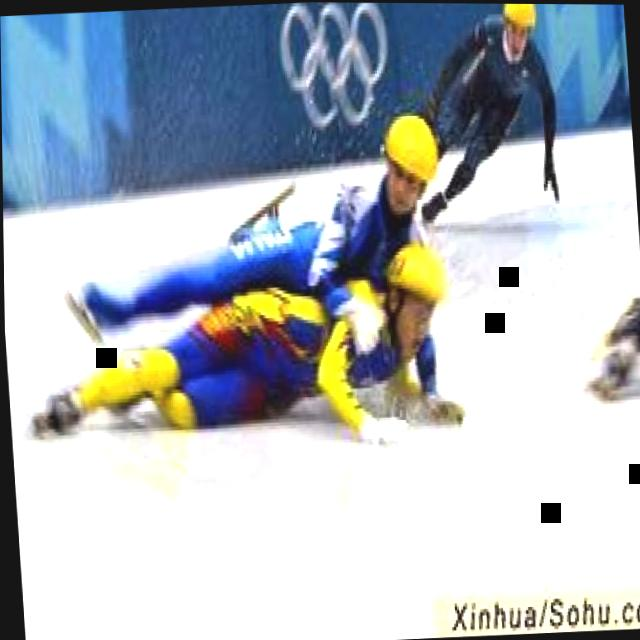Fall-Detected: (53, 98, 444, 353)
